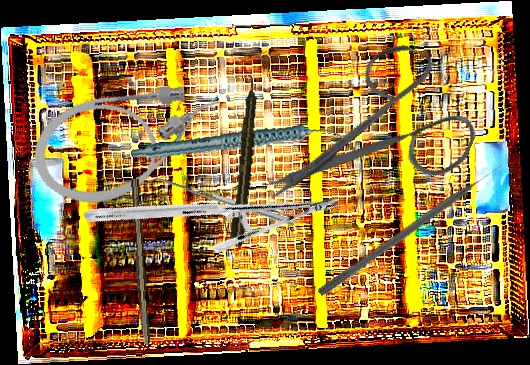Cannula: (22, 67, 237, 217)
Handpiece: (130, 103, 344, 183), (228, 74, 262, 248)
Iris Scissors: (262, 16, 498, 262)
Needle Holder: (82, 95, 342, 324)
Pusher: (316, 161, 507, 299)
Scalpel Handle: (125, 178, 154, 345)
Spatula Surgical: (144, 172, 296, 232)
